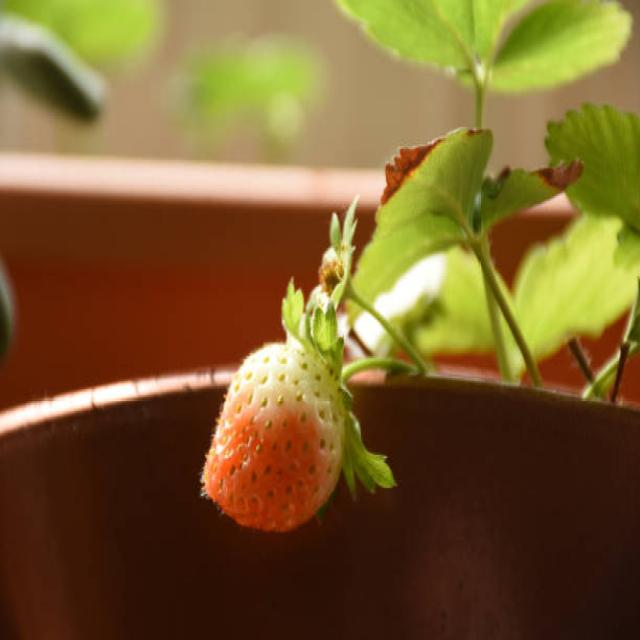Healthy Fruit: (203, 343, 343, 530)
